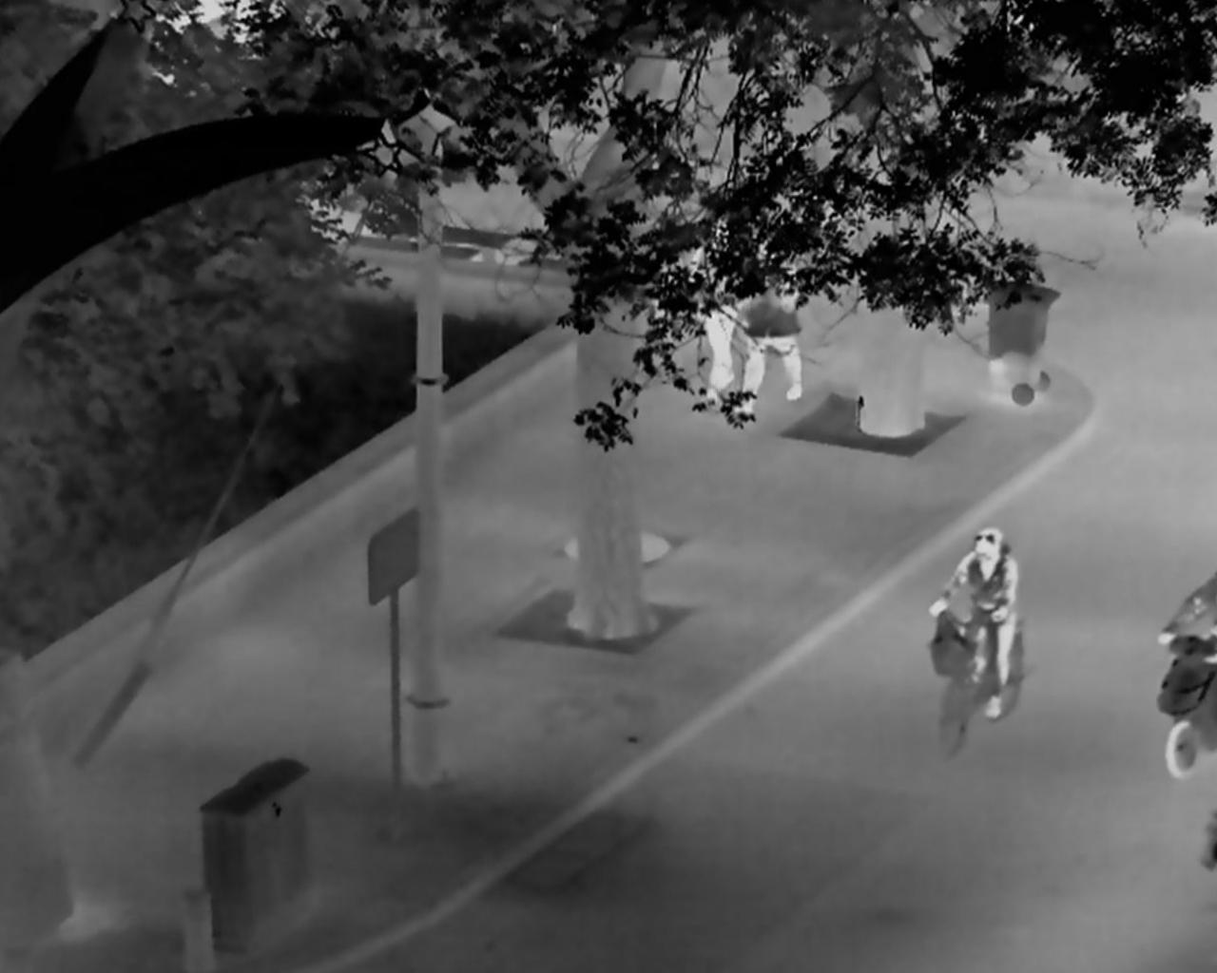person: (928, 526, 1018, 719), (735, 233, 804, 412), (686, 218, 735, 403), (1160, 567, 1217, 666)
